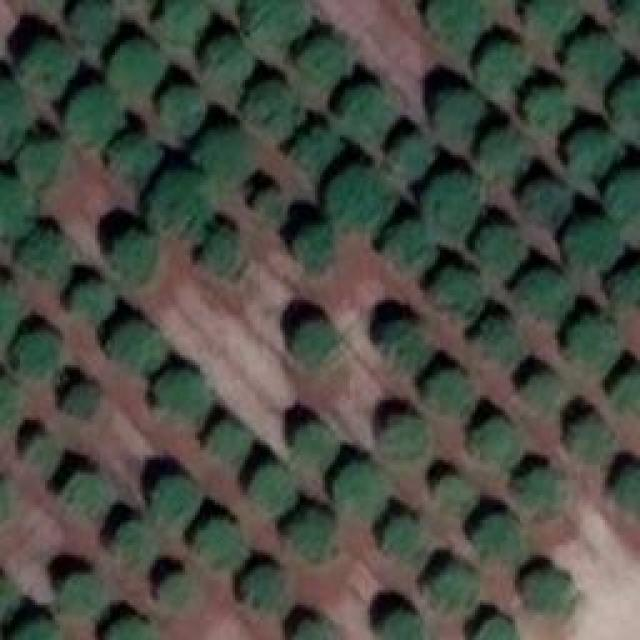Tree: (327, 168, 395, 231), (425, 173, 478, 243), (152, 173, 210, 236), (65, 87, 123, 145), (242, 80, 300, 138), (20, 40, 75, 93), (428, 0, 481, 55), (333, 462, 383, 520), (568, 320, 621, 373), (195, 130, 253, 178), (343, 85, 393, 140), (245, 0, 310, 42), (570, 38, 623, 88), (473, 518, 526, 568), (110, 40, 165, 88), (22, 230, 70, 285), (515, 272, 570, 320), (292, 128, 340, 181), (298, 40, 351, 88), (63, 473, 113, 523), (158, 373, 208, 423), (387, 223, 435, 273), (570, 130, 620, 178), (110, 323, 163, 368), (565, 223, 620, 266), (150, 477, 198, 525), (477, 227, 525, 275), (425, 370, 473, 418), (0, 175, 38, 235), (108, 135, 161, 178), (205, 38, 250, 88), (158, 0, 208, 45), (0, 83, 30, 158), (198, 518, 248, 563), (383, 320, 428, 370), (475, 418, 520, 468), (525, 183, 573, 228), (380, 415, 425, 463), (433, 273, 483, 316), (483, 132, 526, 180), (250, 468, 295, 513), (480, 45, 525, 90), (480, 320, 525, 365), (290, 510, 330, 560), (433, 565, 476, 610), (435, 90, 483, 130), (575, 415, 615, 463), (115, 230, 153, 280), (528, 0, 578, 38), (528, 88, 571, 131), (382, 515, 420, 563), (72, 0, 115, 42), (163, 88, 203, 133), (610, 80, 640, 138), (18, 333, 58, 376), (115, 523, 155, 566), (295, 323, 335, 366), (60, 575, 105, 613), (610, 170, 640, 225), (20, 140, 60, 180), (208, 425, 248, 465), (390, 135, 430, 175), (298, 227, 331, 275), (245, 568, 283, 608), (297, 425, 335, 465), (522, 375, 560, 415), (200, 230, 235, 273), (525, 575, 568, 610), (73, 285, 113, 320), (612, 372, 640, 420), (438, 475, 473, 513), (380, 610, 423, 640), (523, 467, 556, 505), (28, 437, 58, 475), (65, 385, 98, 418), (615, 268, 640, 308), (474, 617, 517, 640), (0, 575, 20, 618), (108, 620, 151, 640), (620, 470, 640, 513), (160, 575, 188, 605), (257, 190, 285, 220), (15, 622, 58, 640), (620, 0, 640, 35), (298, 622, 331, 640)
